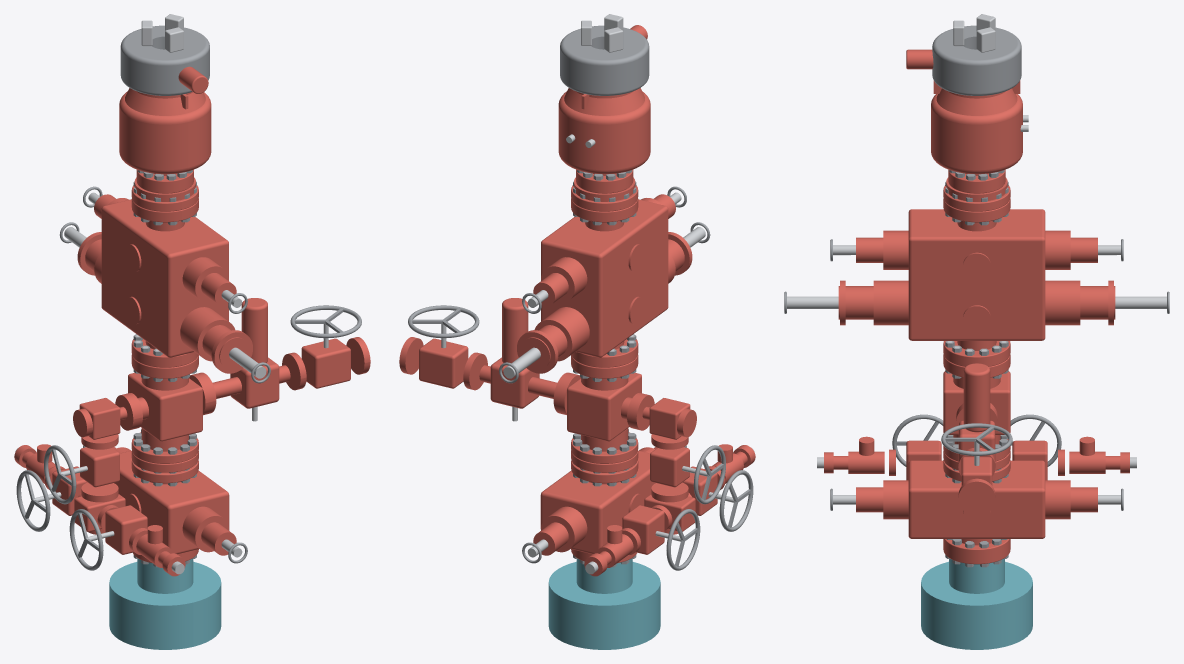
File: sk575_bop.glb
The picture shows the model from 3 angles, left to right: view 1: azimuth 30°, elevation 25°; view 2: azimuth 150°, elevation 25°; view 3: azimuth 270°, elevation 25°; orthographic projection.
Parts seen in each view (by area): view 1: sk575_bop_rojo, sk575_bop_acero_oscuro, sk575_bop_azul, sk575_bop_acero; view 2: sk575_bop_rojo, sk575_bop_acero_oscuro, sk575_bop_azul, sk575_bop_acero; view 3: sk575_bop_rojo, sk575_bop_acero_oscuro, sk575_bop_azul, sk575_bop_acero.
Boxes of the visible parts, x1,y1,x2,y2 form: sk575_bop_rojo: (14, 66, 370, 576); sk575_bop_acero_oscuro: (16, 25, 361, 570); sk575_bop_azul: (109, 559, 221, 649); sk575_bop_acero: (15, 14, 328, 574); sk575_bop_rojo: (399, 25, 755, 576); sk575_bop_acero_oscuro: (408, 25, 753, 570); sk575_bop_azul: (548, 559, 660, 649); sk575_bop_acero: (441, 14, 754, 574); sk575_bop_rojo: (824, 49, 1129, 564); sk575_bop_acero_oscuro: (784, 25, 1169, 567); sk575_bop_azul: (921, 559, 1032, 649); sk575_bop_acero: (787, 14, 1166, 504).
Size of the model in its own units: 2.5 by 4.76 by 2.76.
